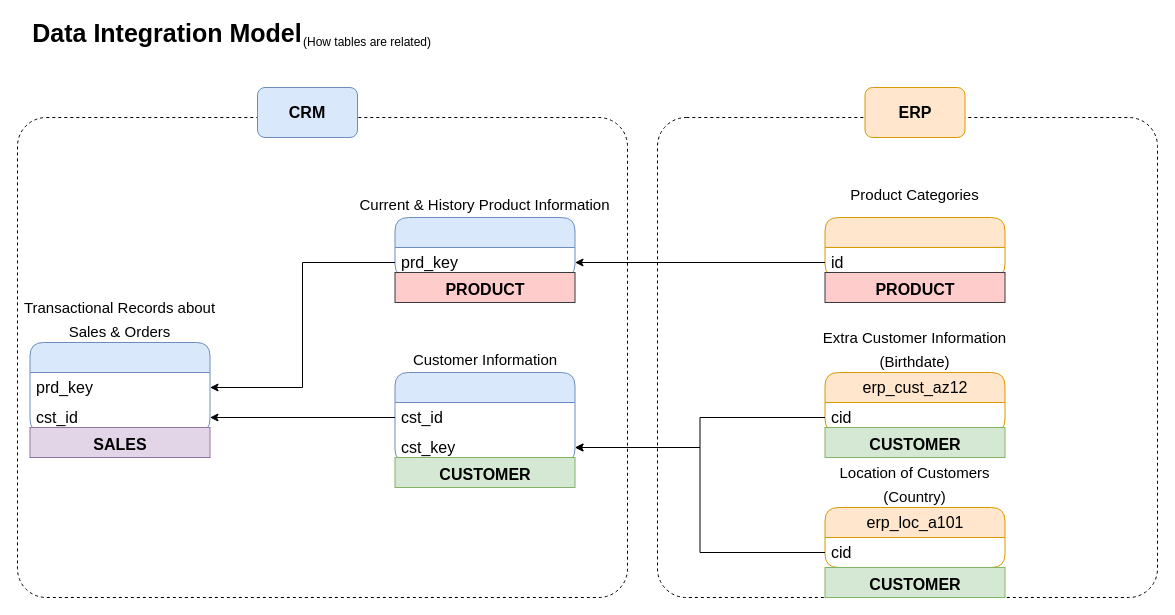
This 1175x615 diagram has some shape labels left out. The box of each missing label's shape, as (x1, y1, x2, y2) in pixels:
crm_cust_info: (394, 372, 575, 462)
crm_prd_info: (394, 216, 575, 278)
crm_sales_details: (29, 342, 210, 432)
erp_px_cat_g1v2: (824, 216, 1005, 278)
